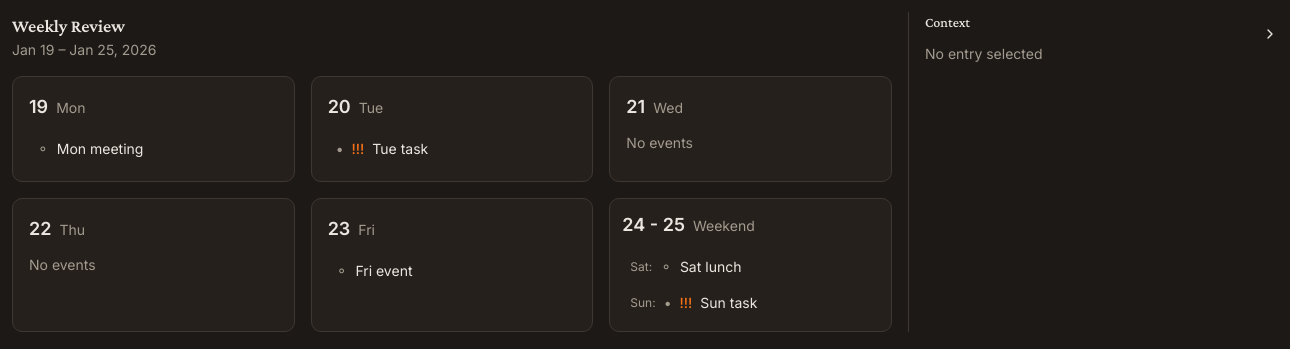
WeekView › shows "No context" when contextTree prop is empty
The width and height of the screenshot is (1290, 349).
Step 1. Click the text "Mon meeting" → (100, 148), box x1=57 y1=140 x2=143 y2=157
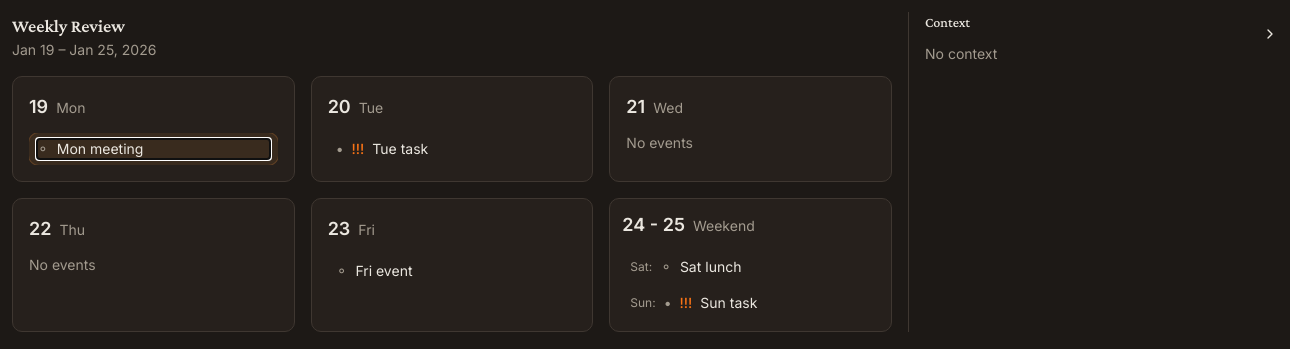
Result: the text "No context" is shown at x1=925 y1=45 x2=997 y2=62
